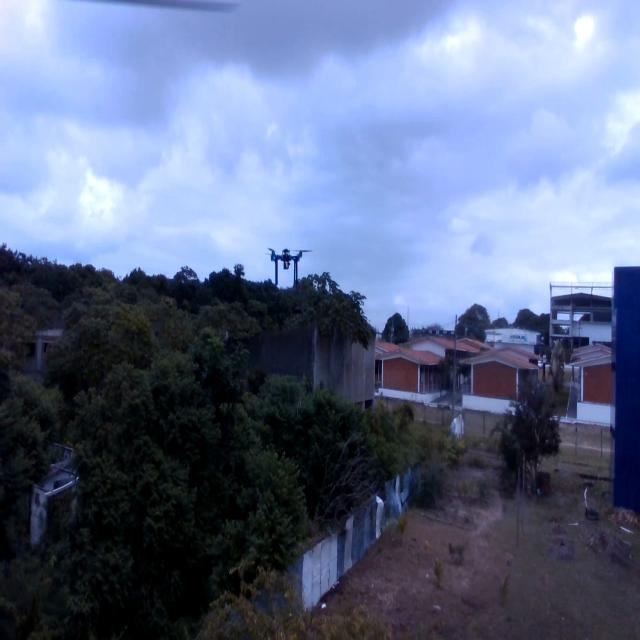-uav-: (262, 234, 310, 293)
